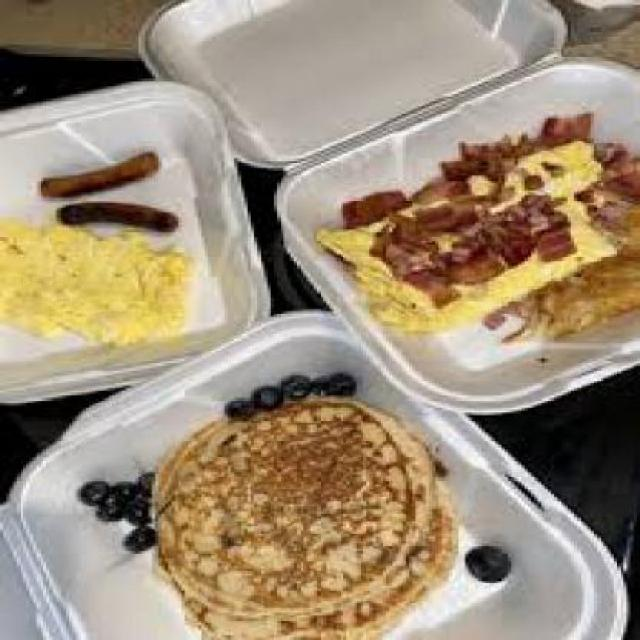hot dog: (22, 145, 192, 230)
omelette: (317, 133, 594, 339)
pancakes: (135, 383, 462, 637)
